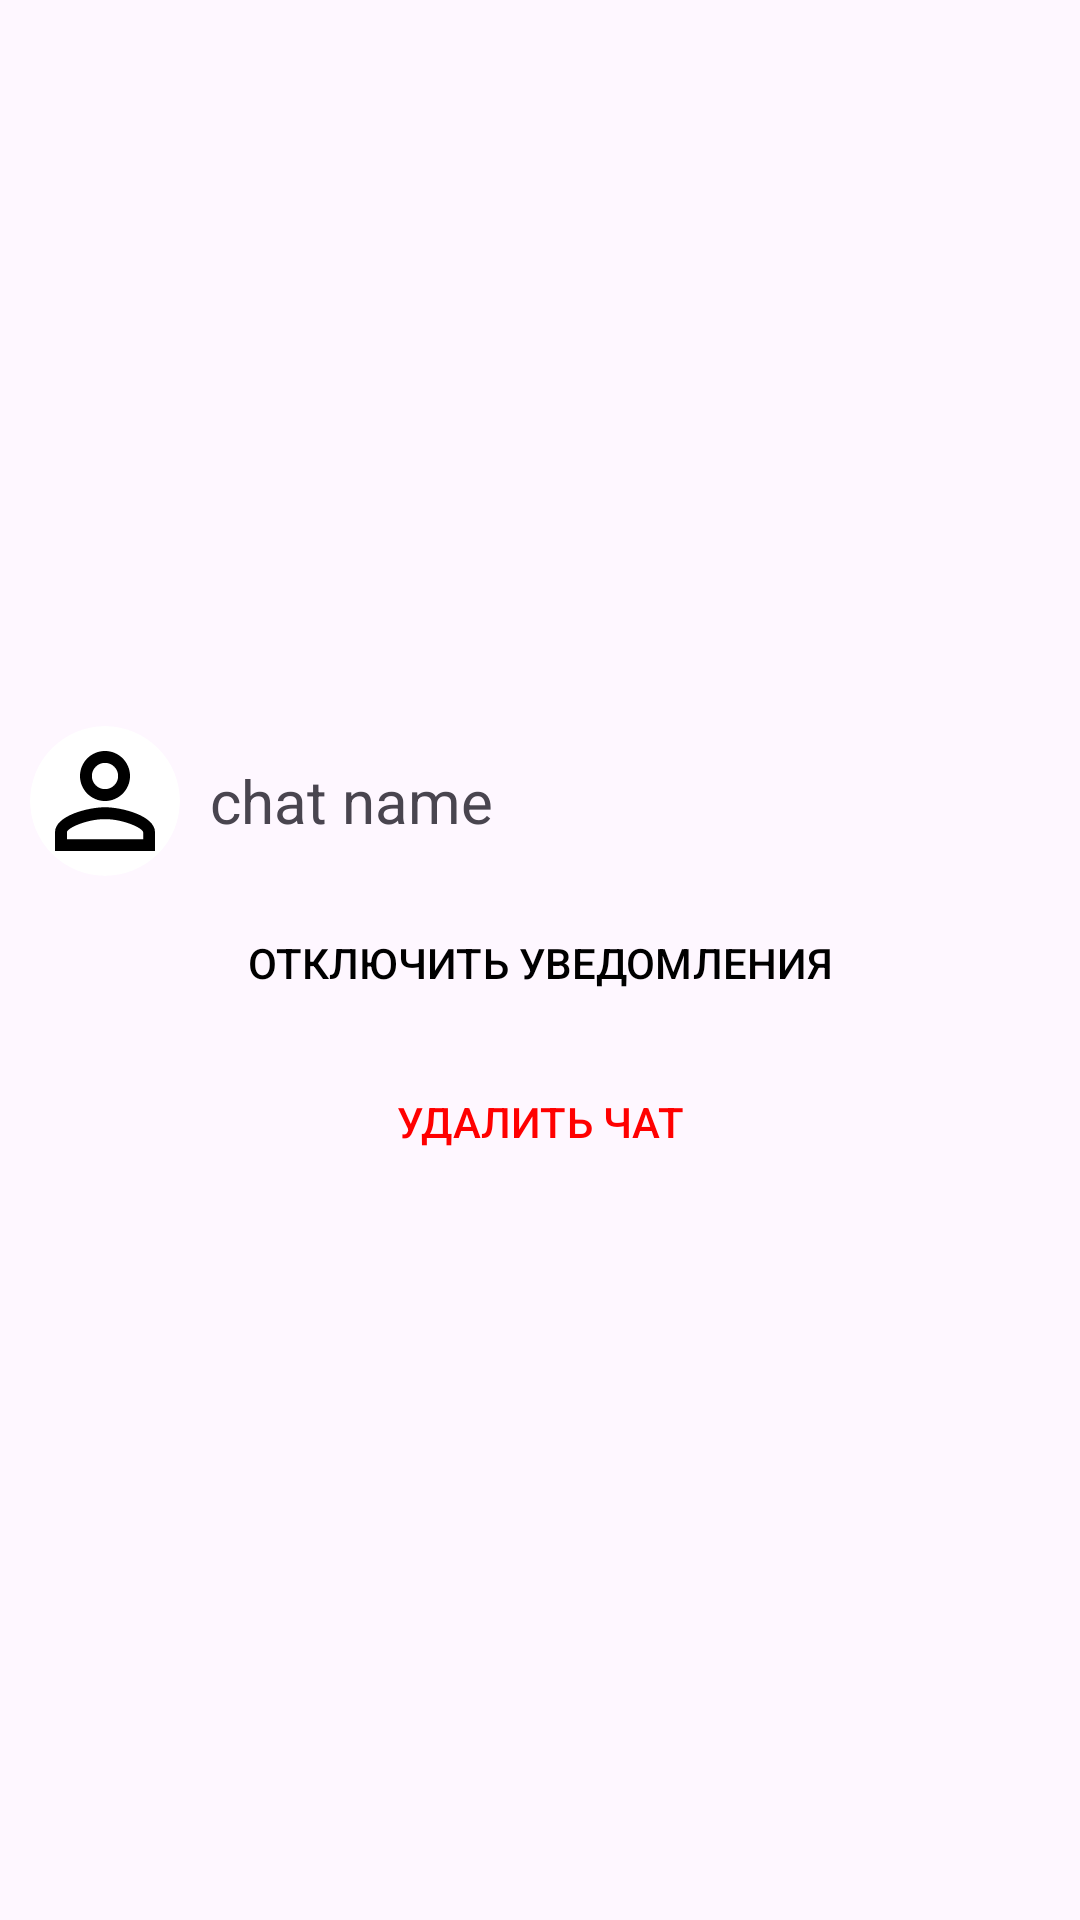

Named icons in this screenshot (1080px×1920px) and their bounding boxes, (x1, y1, x2, y2):
person: (55, 751, 155, 851)
